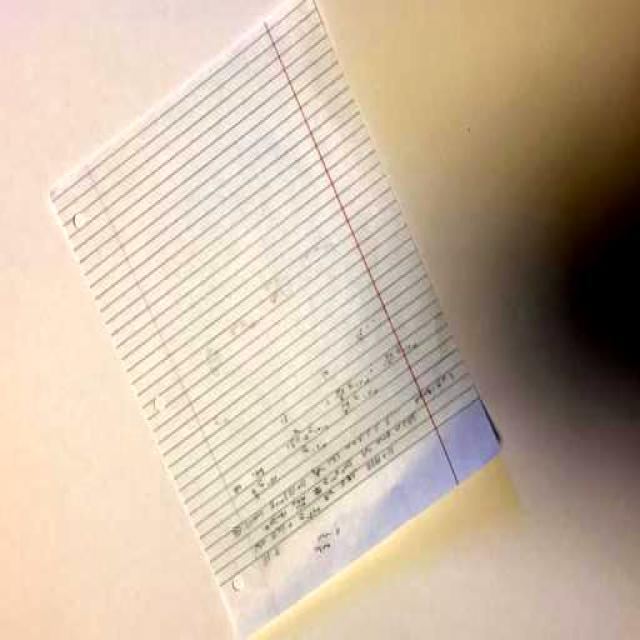Paper: (41, 0, 510, 640)
